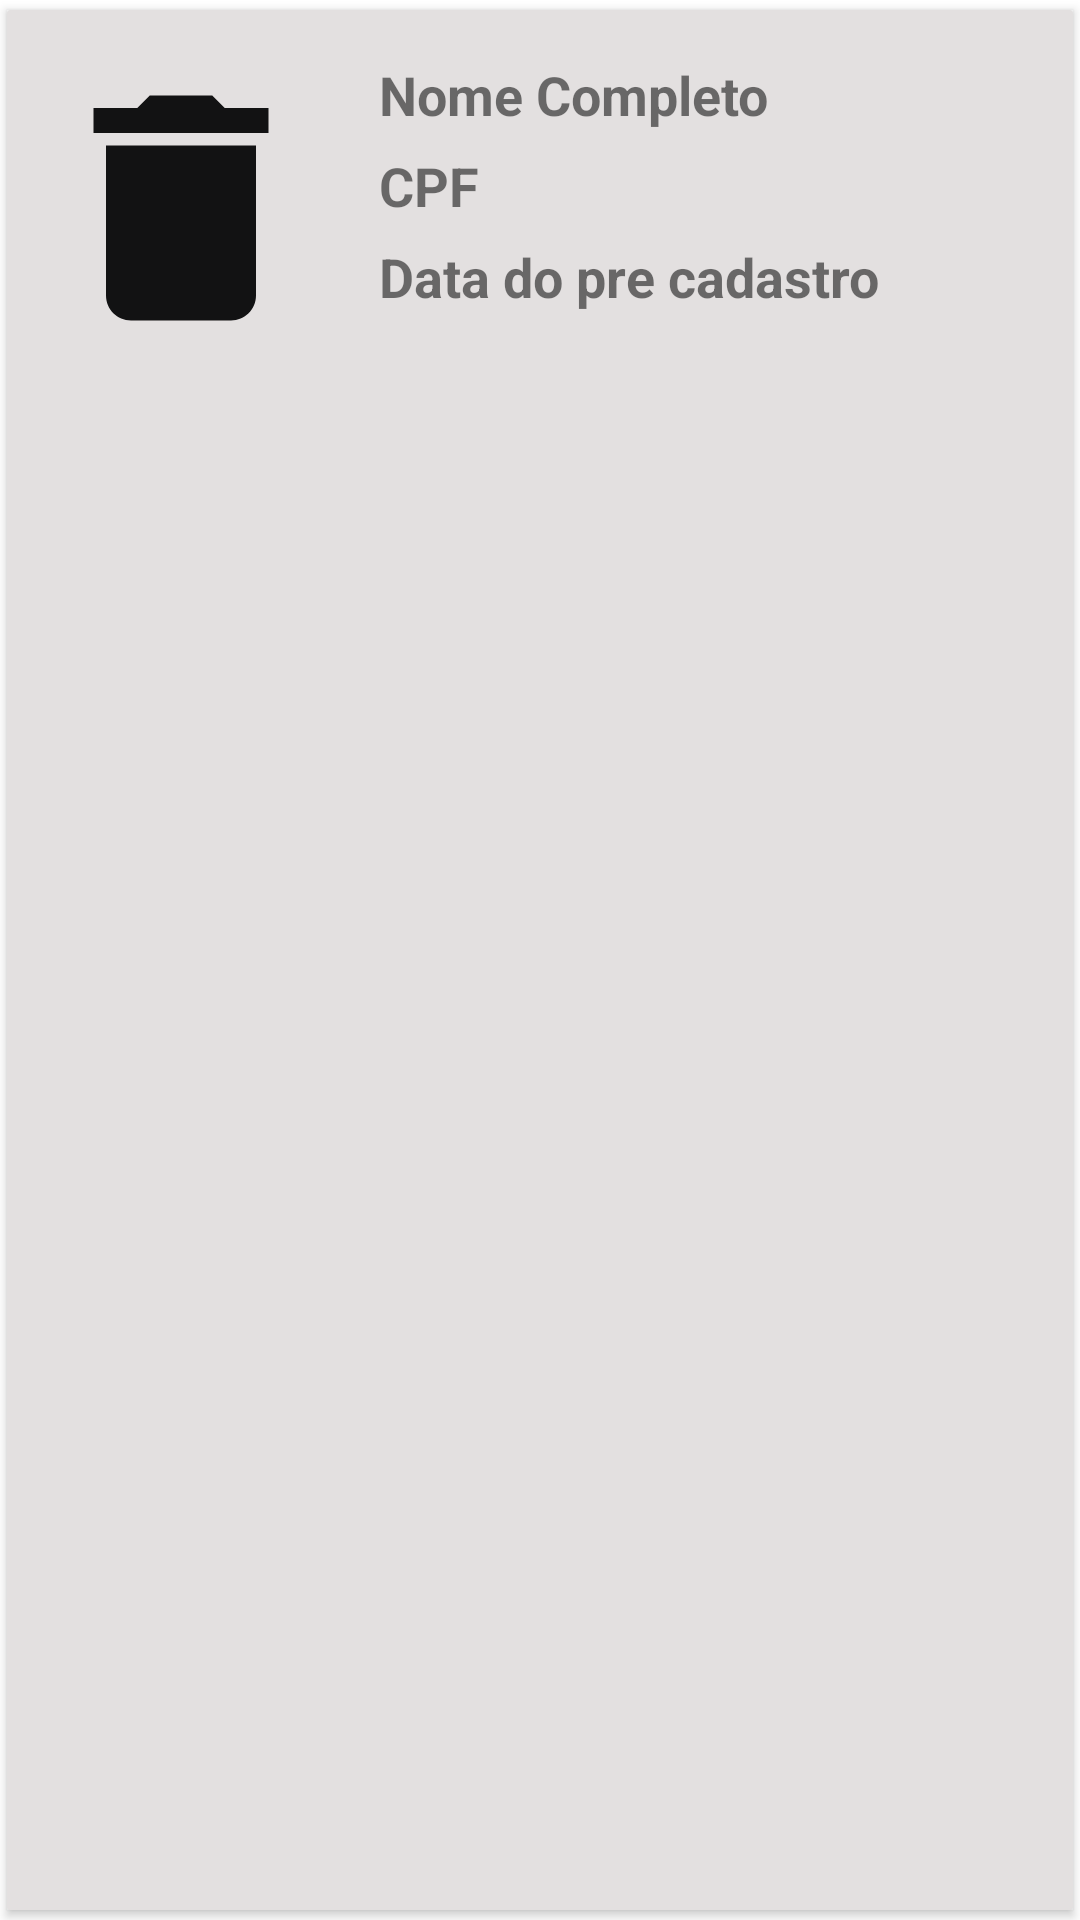

Named icons in this screenshot (1080*1920) and their centers, point (x, y):
delete: point (181, 208)
